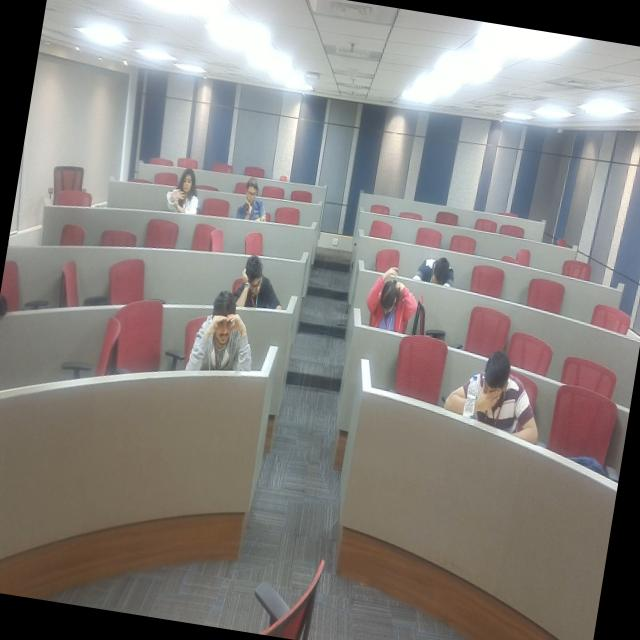non-cheating: (408, 220, 474, 298)
